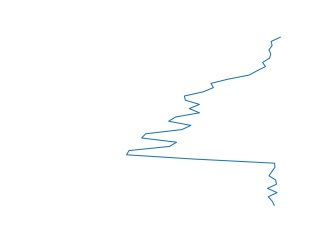proximalDeepseaFan: (123, 37, 283, 206)
